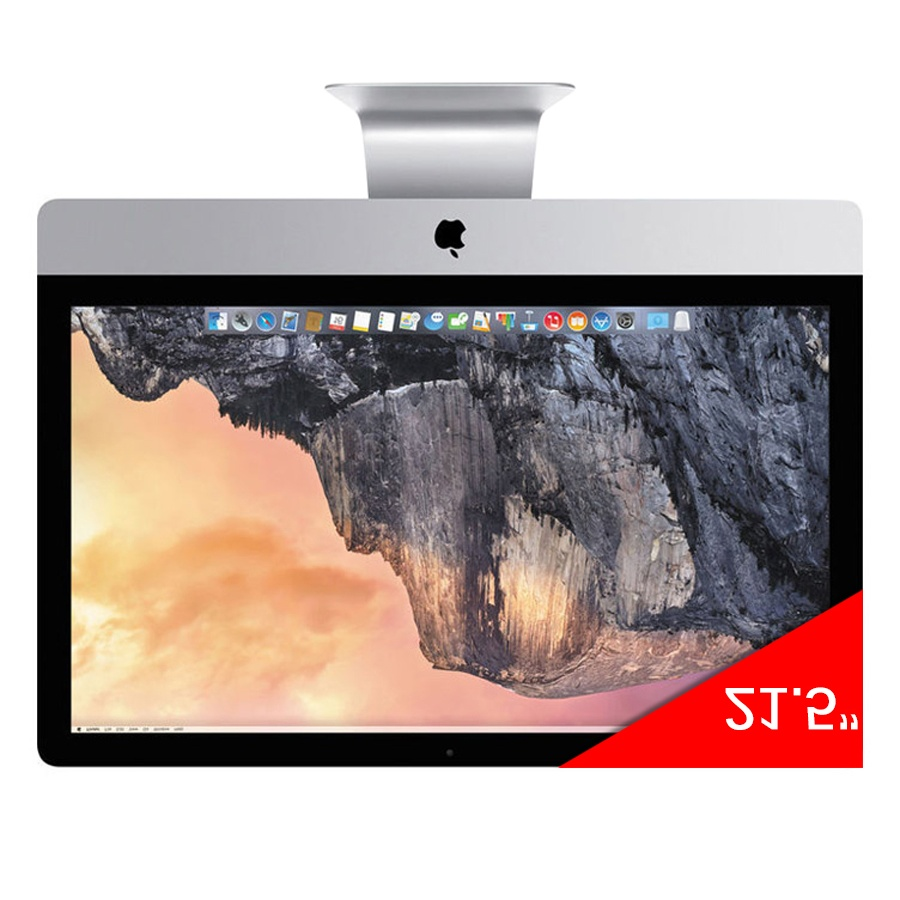Apple: (342, 149, 569, 316)
